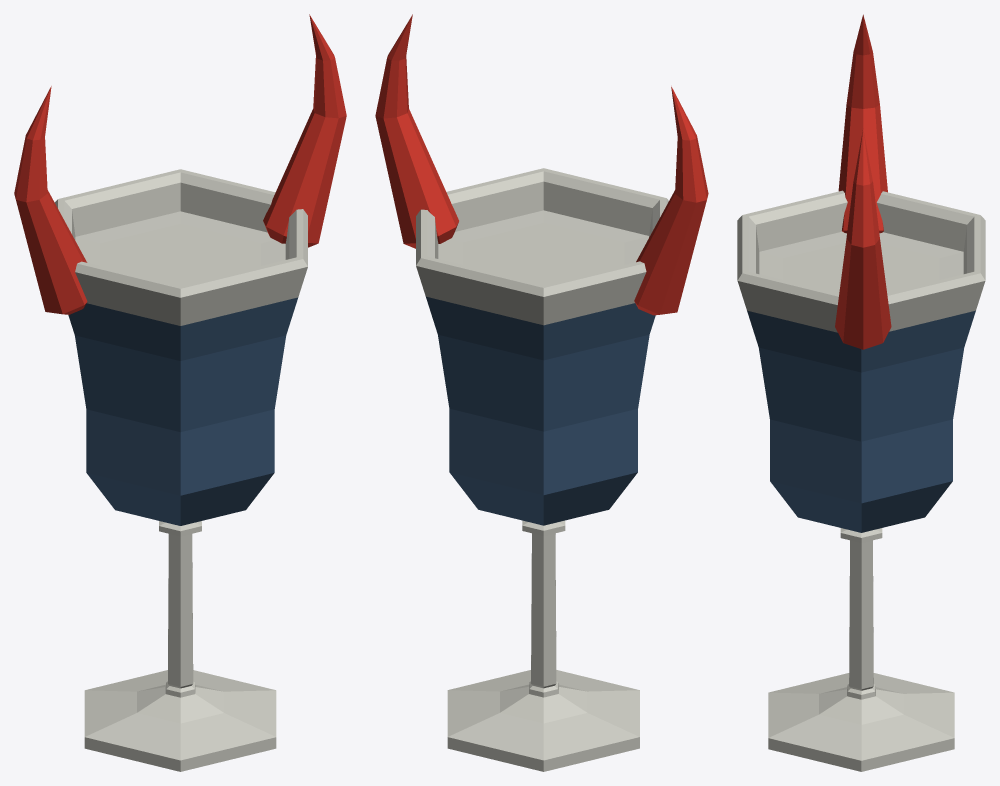
The model's file is WF_LP_HT_Props_Drink.001.fbx.
3 views of the same model, side by side, from view 1: azimuth 30°, elevation 25°; view 2: azimuth 150°, elevation 25°; view 3: azimuth 270°, elevation 25° (orthographic). The views are drawn at different scales.
Parts seen in each view (by area): view 1: WF_LP_HT_Props_Drink.001; view 2: WF_LP_HT_Props_Drink.001; view 3: WF_LP_HT_Props_Drink.001.
Boxes of the visible parts, box(x1,y1,x2,y2) form: WF_LP_HT_Props_Drink.001: box(14, 14, 346, 771); WF_LP_HT_Props_Drink.001: box(375, 14, 708, 771); WF_LP_HT_Props_Drink.001: box(737, 14, 985, 771).
Size of the model in its own units: 0.1777 by 0.3501 by 0.1192.
